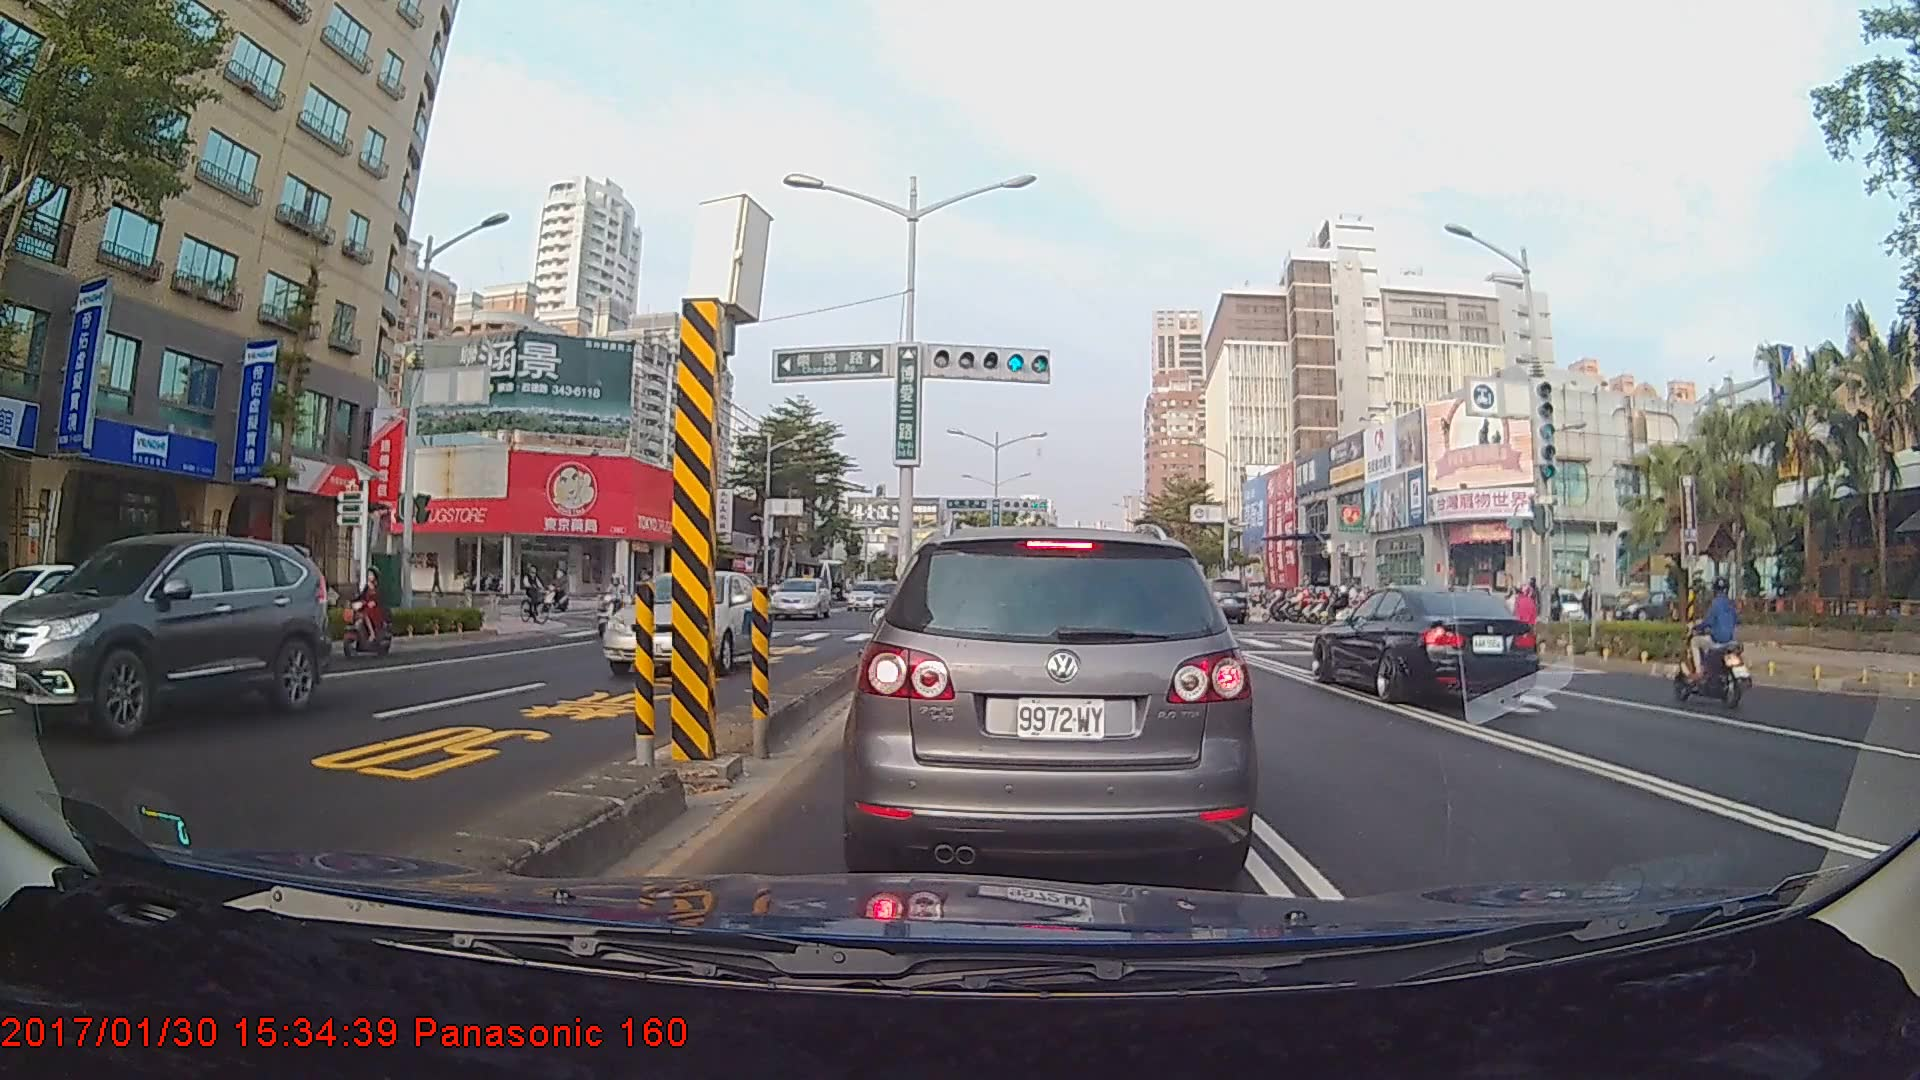rider: (1674, 575, 1760, 711), (330, 562, 400, 661), (518, 559, 561, 629), (599, 572, 632, 640), (541, 570, 574, 615)
vehicle: (853, 521, 1254, 885), (0, 530, 333, 741), (1309, 581, 1540, 705), (601, 569, 769, 677), (769, 576, 832, 620), (1201, 575, 1247, 625)
